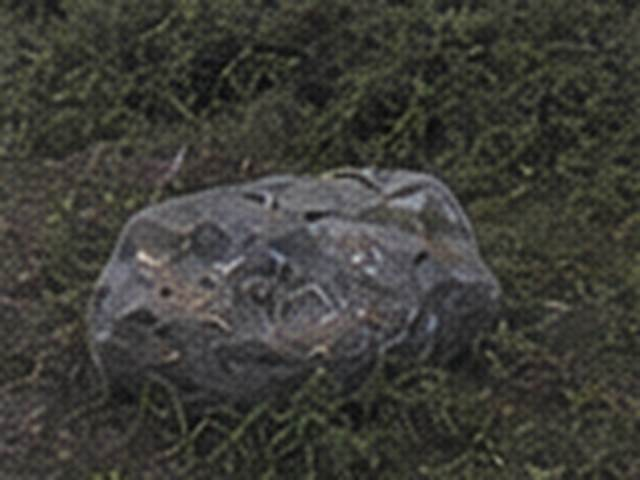tower: (89, 169, 499, 402)
